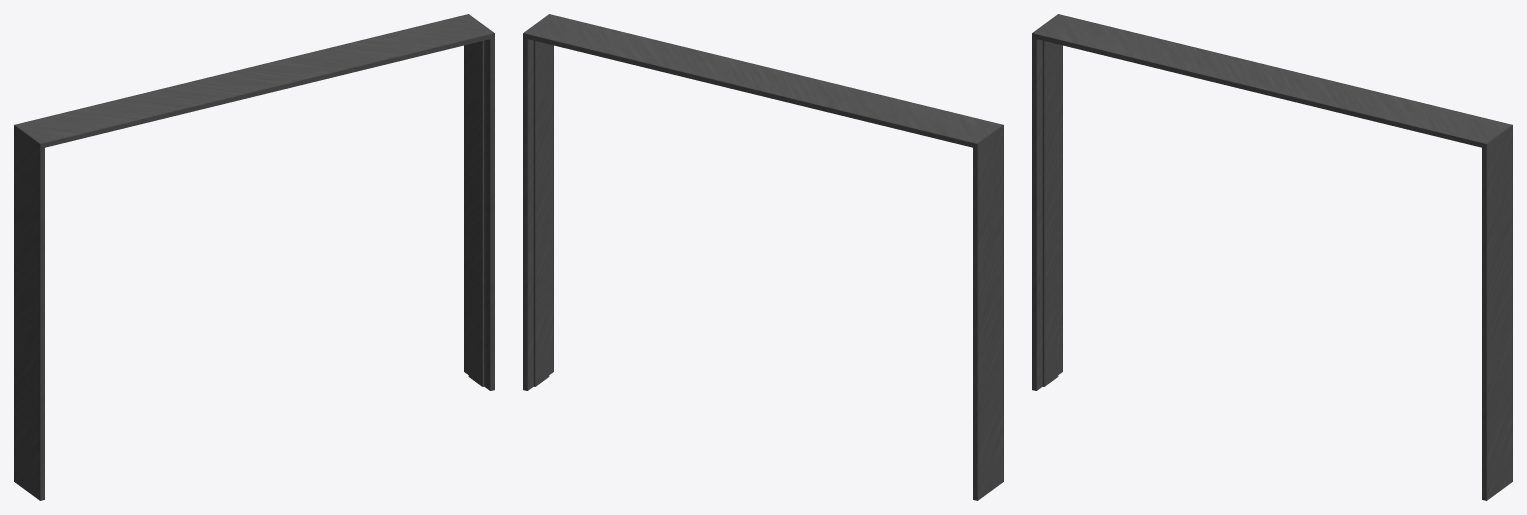
The model's file is DoorFrame3x2_25.gltf.
3 renders of one model, left to right at view 1: azimuth 30°, elevation 25°; view 2: azimuth 150°, elevation 25°; view 3: azimuth 330°, elevation 25°, orthographic.
Parts seen in each view (by area): view 1: DoorFrame3x2_25Shape; view 2: DoorFrame3x2_25Shape; view 3: DoorFrame3x2_25Shape.
Part boxes in pixels (x1,y1,x2,y2): DoorFrame3x2_25Shape: [14, 14, 494, 500]; DoorFrame3x2_25Shape: [523, 14, 1003, 500]; DoorFrame3x2_25Shape: [1032, 14, 1512, 500].
Size of the model in its own units: 3 by 2.25 by 0.3.
1 material, 1 textured.
